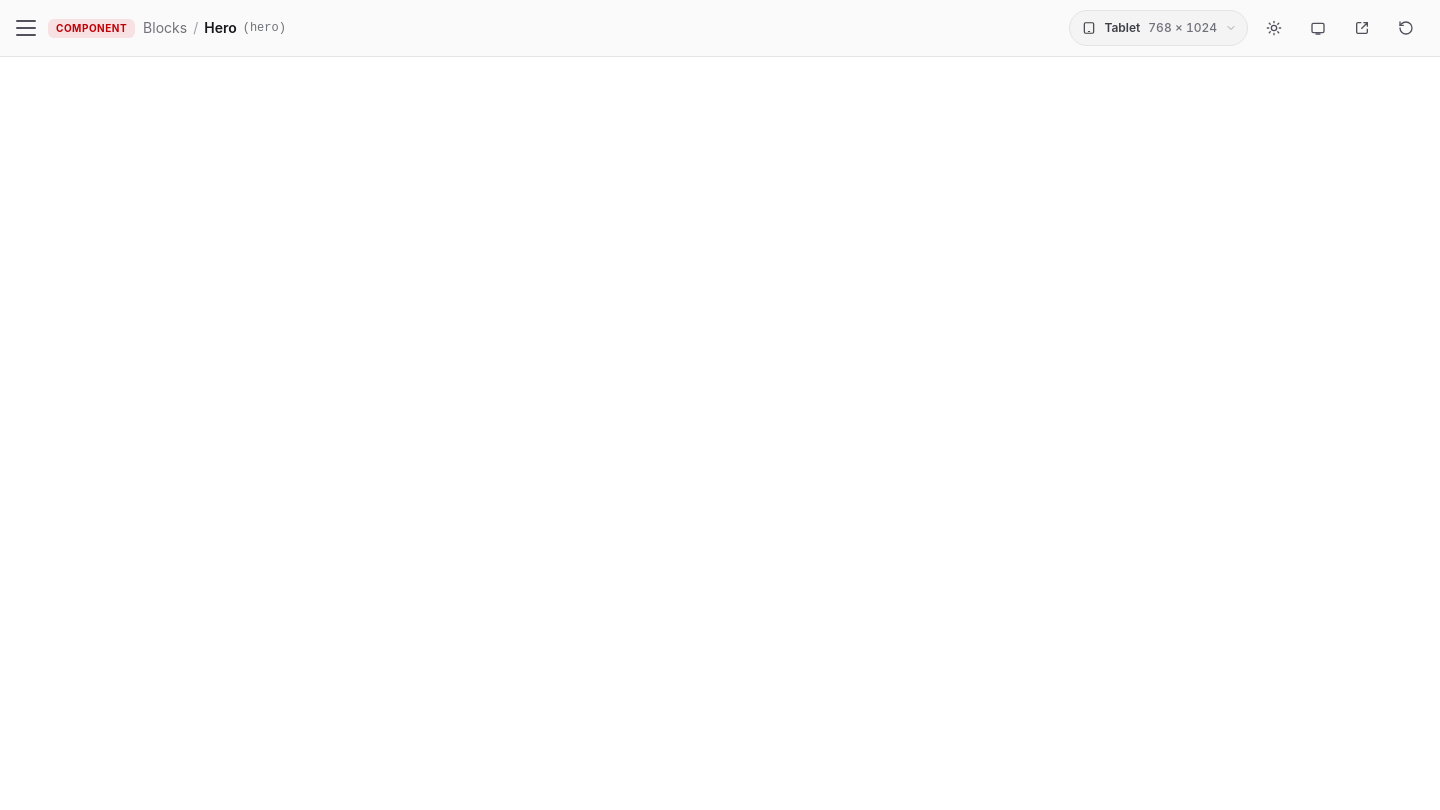
Test: ViewportToolbar — width checklist › names a single project width by its device word, not "Custom"
Click the button with test id "viewport-trigger": click(1159, 28) [1069,10,1248,46]
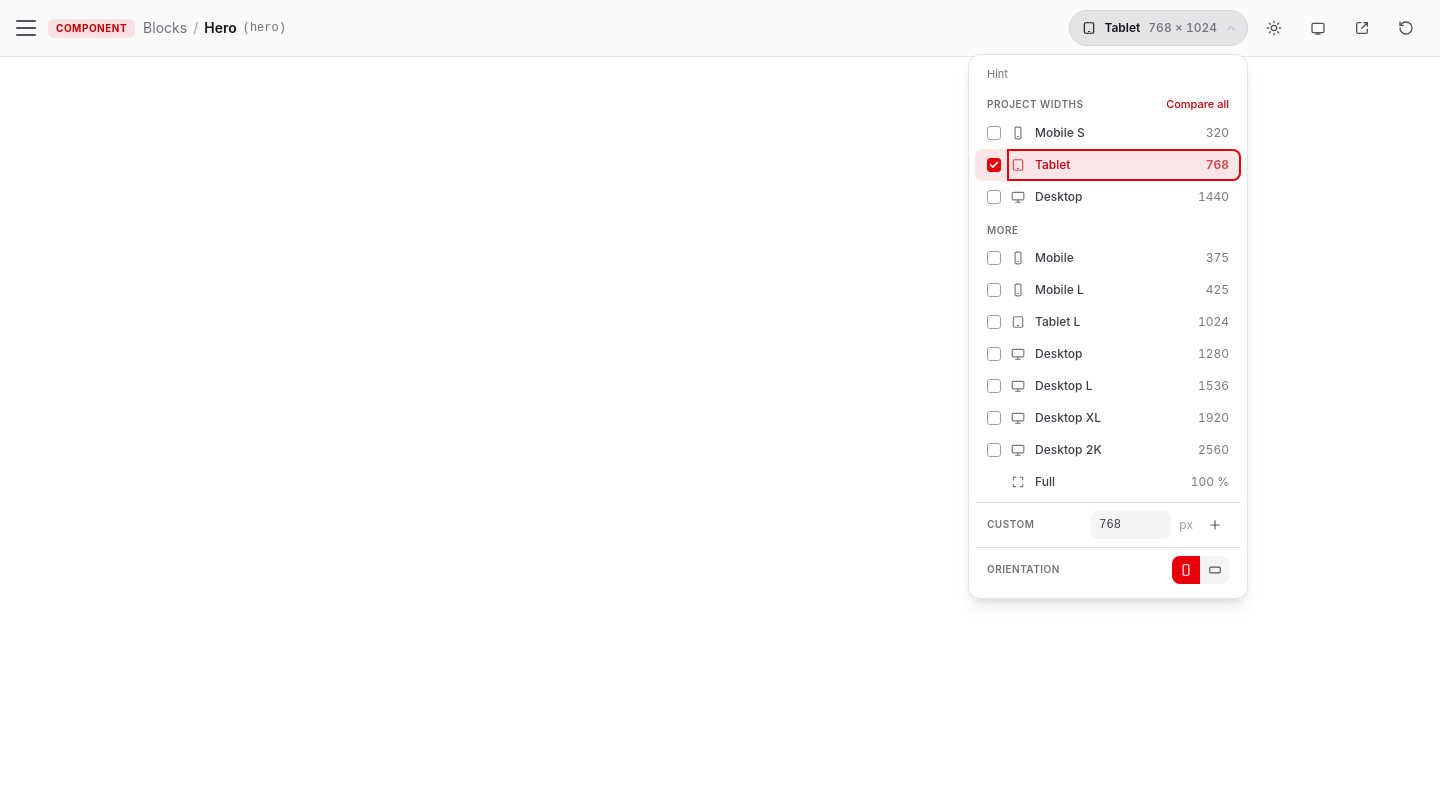
Click the menu item "Desktop 1440": click(1124, 197) [1007,181,1241,213]
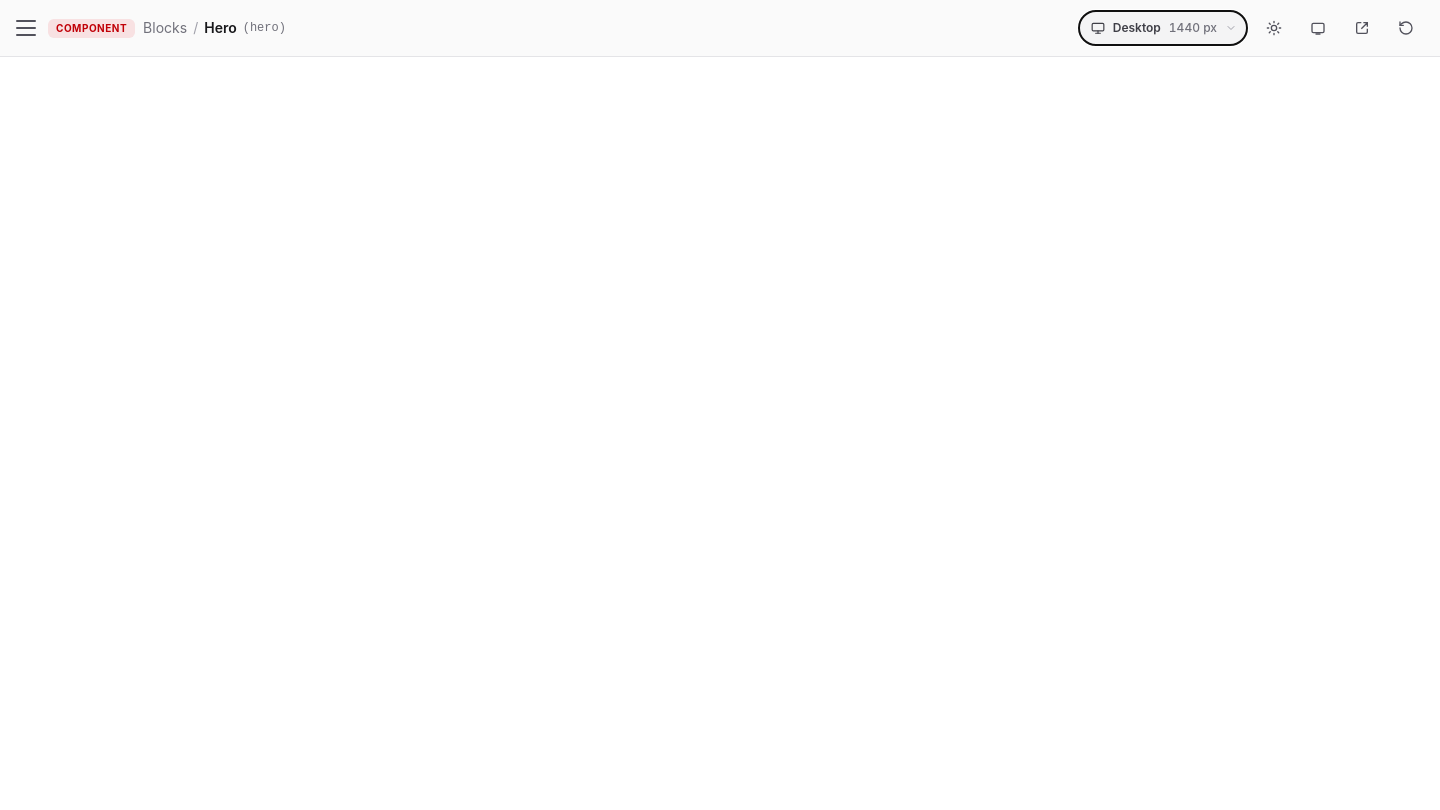
Result: the text with test id "viewport-trigger-word" reads "Desktop" at [1113,20,1161,35]
